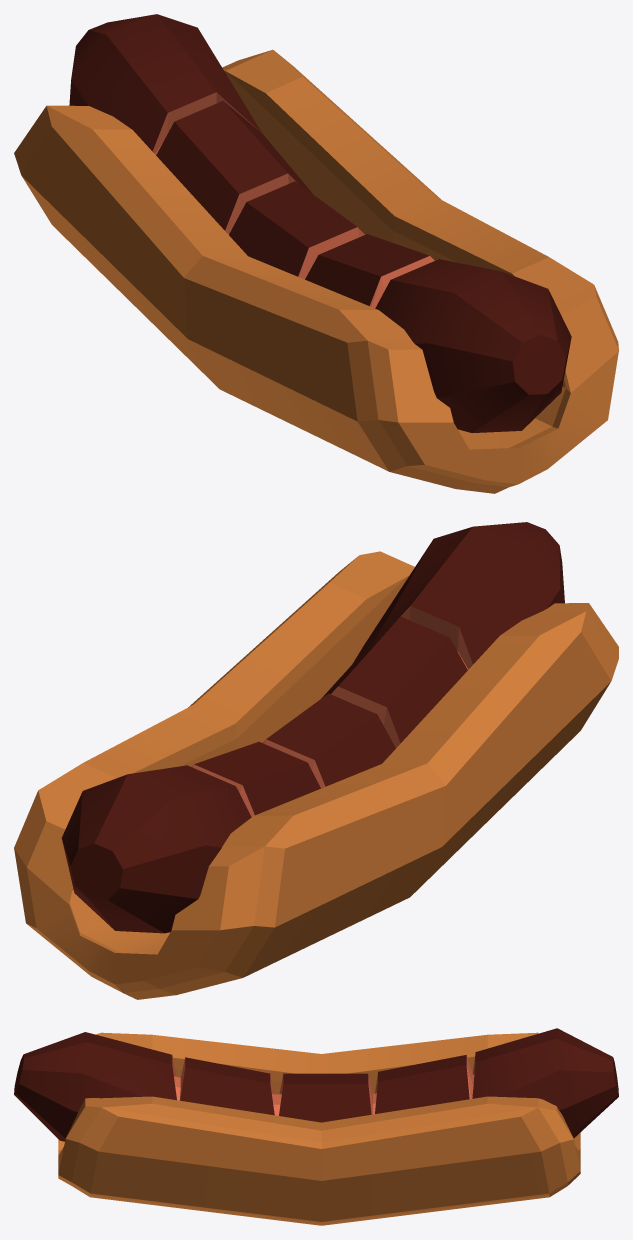
Rendered from hotdog.fbx.
3 renders of one model, top to bottom at view 1: azimuth 30°, elevation 25°; view 2: azimuth 150°, elevation 25°; view 3: azimuth 270°, elevation 25°, orthographic. The views are drawn at different scales.
Parts seen in each view (by area): view 1: bun, meat; view 2: bun, meat; view 3: bun, meat.
Boxes of the visible parts, box(x1,y1,x2,y2) form: bun: box(14, 49, 618, 493); meat: box(69, 14, 571, 432); bun: box(14, 551, 618, 999); meat: box(61, 522, 564, 933); bun: box(58, 1032, 580, 1225); meat: box(14, 1028, 618, 1141).
Size of the model in its own units: 4.18 by 3.99 by 11.91.
